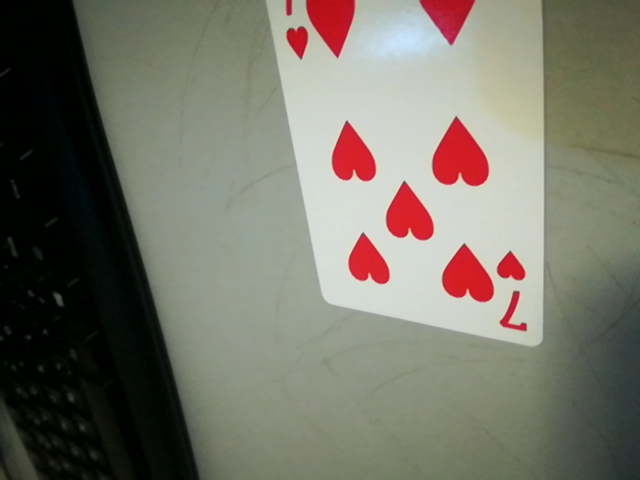hx 7: (490, 248, 539, 341)
